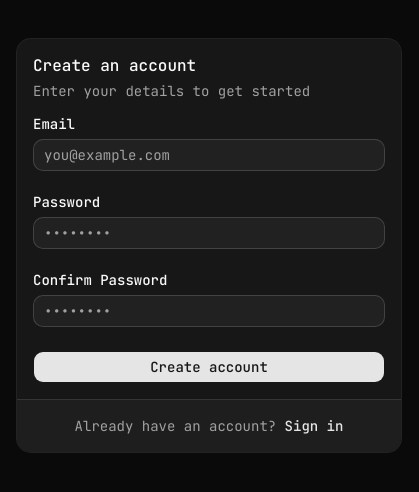
Test: SignupPage › shows error message when email is already taken
Type "taken@example.com" into the field labelled "Email" at (209, 154), box top-left (33, 138), bottom-right (385, 170)
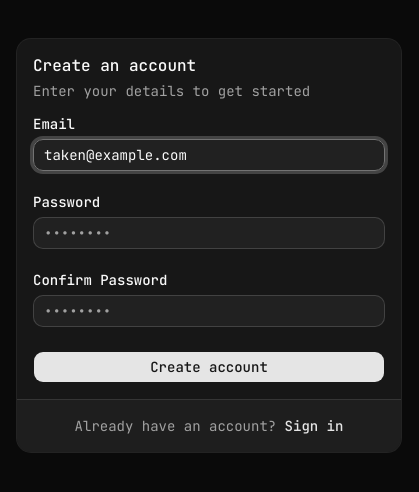
Type "password123" into the password field labelled "Password" at (209, 232), box top-left (33, 216), bottom-right (385, 248)
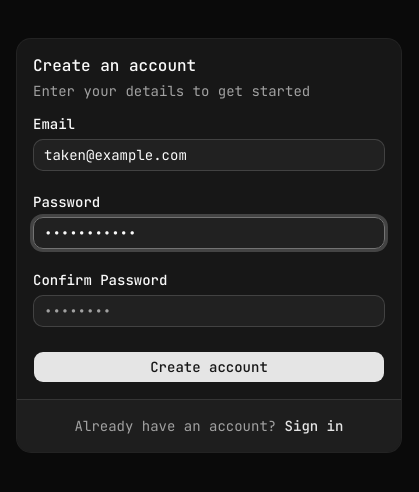
Type "password123" into the password field labelled "Confirm Password" at (209, 310), box top-left (33, 294), bottom-right (385, 326)
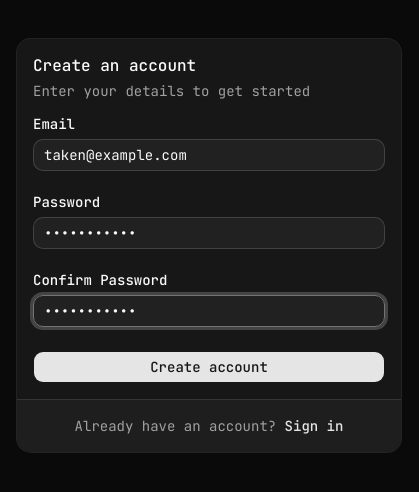
Click the button "Create account" at (209, 366), box top-left (33, 350), bottom-right (385, 382)
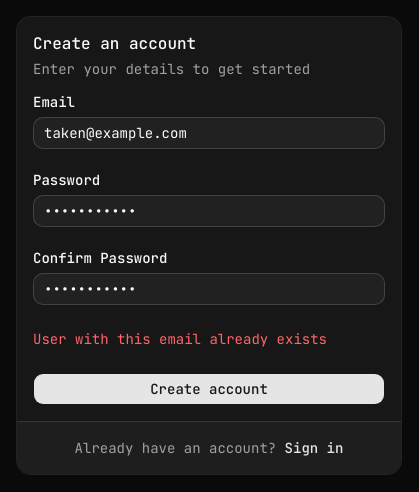
Check: the text "User with this email already exists" is shown, box top-left (33, 330), bottom-right (327, 348)
